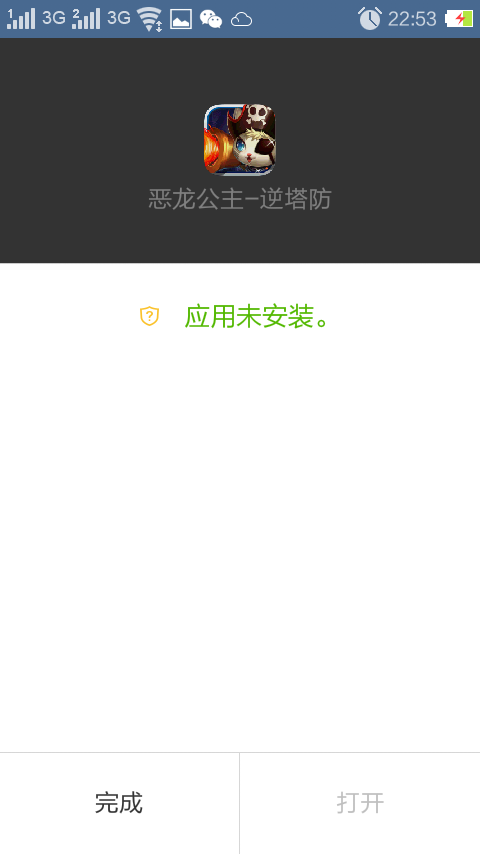button: (1, 739, 247, 853), (232, 744, 479, 854)
textview: (130, 286, 335, 340)
